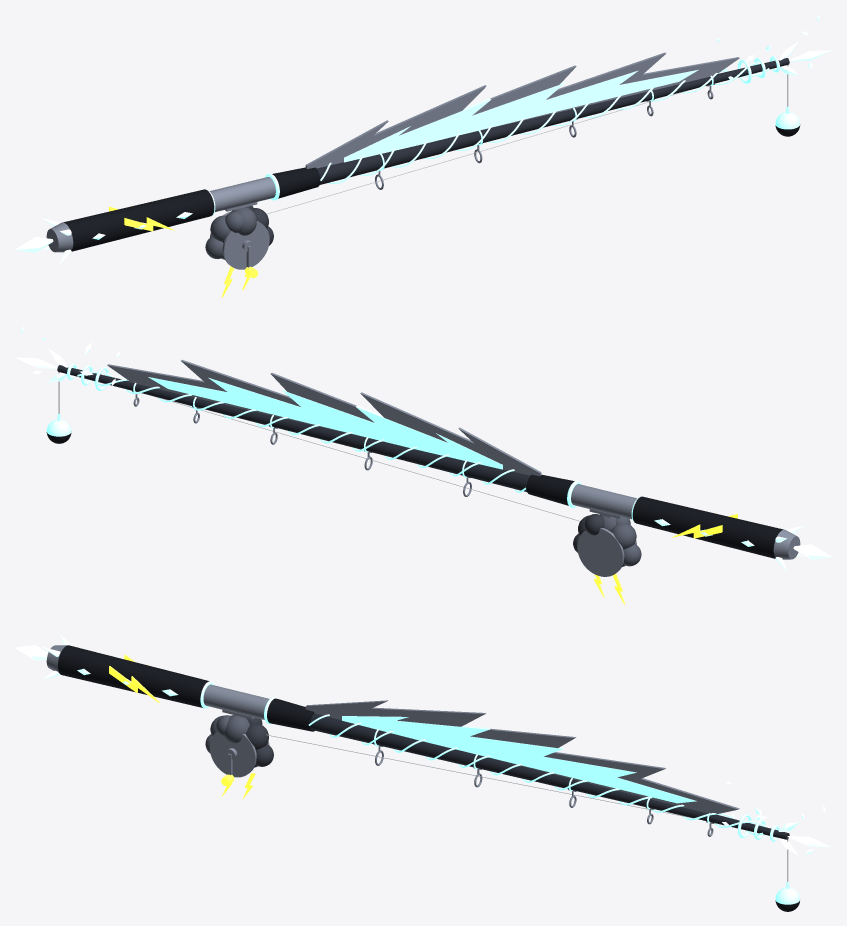
Rendered from ROD_STORMCALLER.glb.
3 renders of one model, top to bottom at view 1: azimuth 30°, elevation 25°; view 2: azimuth 150°, elevation 25°; view 3: azimuth 330°, elevation 25°, orthographic.
Visible parts, largest first — view 1: lightning_core, lightning_blade, blank, rear_grip, reel_seat, reel_plate_f, fore_grip, storm_arc_b, storm_arc, butt_cap; view 2: lightning_core, lightning_blade, blank, rear_grip, reel_plate_b, reel_seat, fore_grip, storm_arc_b, storm_arc, butt_cap; view 3: lightning_core, lightning_blade, blank, rear_grip, reel_seat, reel_plate_f, fore_grip, storm_arc, storm_arc_b, storm_cloud_0.
Boxes of the visible parts, <box> form: lightning_core: <box>344,69,698,162</box>; lightning_blade: <box>305,52,739,168</box>; blank: <box>317,58,789,184</box>; rear_grip: <box>63,189,214,251</box>; reel_seat: <box>209,177,275,211</box>; reel_plate_f: <box>222,221,269,269</box>; fore_grip: <box>272,167,320,198</box>; storm_arc_b: <box>327,62,760,183</box>; storm_arc: <box>320,68,769,180</box>; butt_cap: <box>46,222,73,252</box>; lightning_core: <box>148,377,502,469</box>; lightning_blade: <box>107,360,541,476</box>; blank: <box>57,365,529,491</box>; rear_grip: <box>632,496,783,558</box>; reel_plate_b: <box>577,528,624,576</box>; reel_seat: <box>571,484,636,519</box>; fore_grip: <box>526,474,574,505</box>; storm_arc_b: <box>77,371,525,492</box>; storm_arc: <box>92,379,514,484</box>; butt_cap: <box>773,529,800,559</box>; lightning_core: <box>342,716,696,803</box>; lightning_blade: <box>305,700,739,813</box>; blank: <box>310,713,789,839</box>; rear_grip: <box>58,645,209,707</box>; reel_seat: <box>203,684,269,719</box>; reel_plate_f: <box>209,731,256,777</box>; fore_grip: <box>267,698,314,731</box>; storm_arc: <box>308,714,762,835</box>; storm_arc_b: <box>329,722,768,827</box>; storm_cloud_0: <box>224,715,249,743</box>.
Bounding box in the file's own units: 1.9 × 0.3276 × 0.097.
